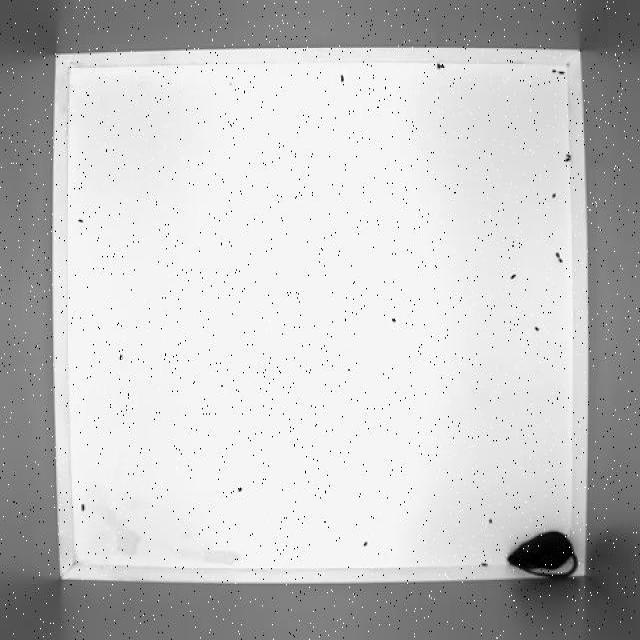rat: (506, 528, 584, 579)
